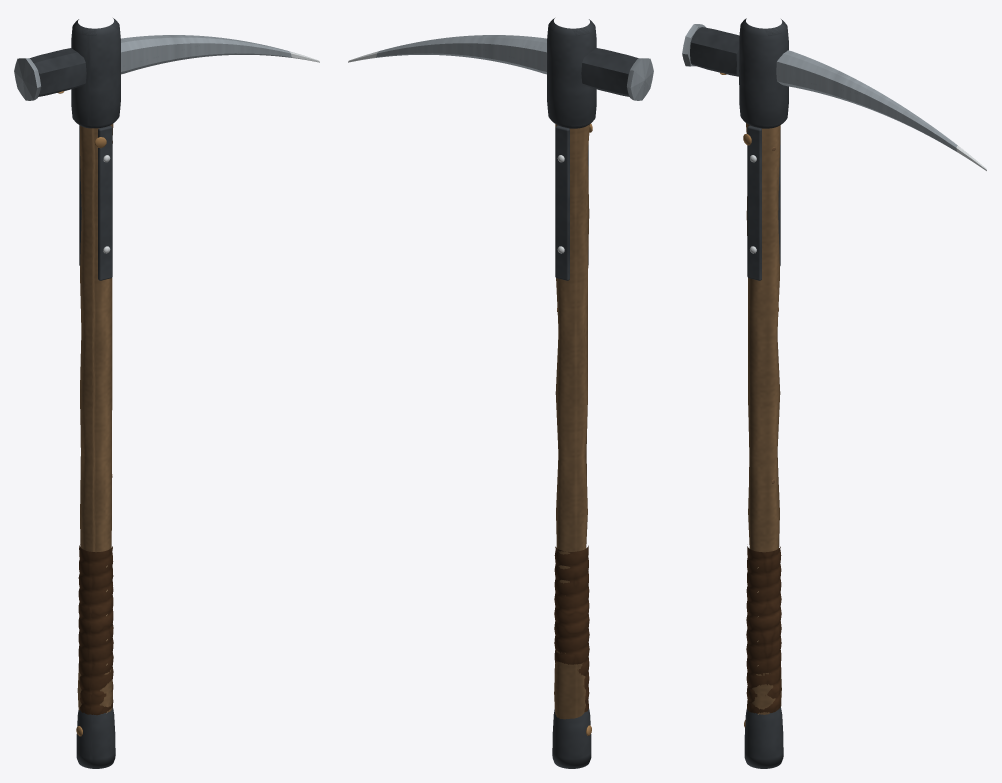
File: military-pick.glb
3 renders of one model, left to right at view 1: azimuth 30°, elevation 25°; view 2: azimuth 150°, elevation 25°; view 3: azimuth 330°, elevation 25°, orthographic.
Parts seen in each view (by area): view 1: wood / oiled hardwood, darksteel / oil-blackened fittings, leather / oiled leather wrap, steel / forged blade steel; view 2: wood / oiled hardwood, darksteel / oil-blackened fittings, steel / forged blade steel, leather / oiled leather wrap; view 3: wood / oiled hardwood, darksteel / oil-blackened fittings, leather / oiled leather wrap, steel / forged blade steel.
Boxes of the visible parts, bbox=[...] form: wood / oiled hardwood: bbox=[77, 124, 113, 712]; darksteel / oil-blackened fittings: bbox=[29, 18, 120, 768]; leather / oiled leather wrap: bbox=[78, 545, 113, 715]; steel / forged blade steel: bbox=[14, 35, 291, 100]; wood / oiled hardwood: bbox=[554, 124, 589, 719]; darksteel / oil-blackened fittings: bbox=[547, 18, 638, 768]; steel / forged blade steel: bbox=[376, 35, 653, 100]; leather / oiled leather wrap: bbox=[554, 545, 589, 712]; wood / oiled hardwood: bbox=[746, 123, 781, 714]; darksteel / oil-blackened fittings: bbox=[690, 18, 788, 768]; leather / oiled leather wrap: bbox=[746, 546, 781, 713]; steel / forged blade steel: bbox=[682, 24, 957, 151].
Size of the model in its own units: 0.3472 by 0.829 by 0.0485.
Materials: 8 (5 with a texture image).
